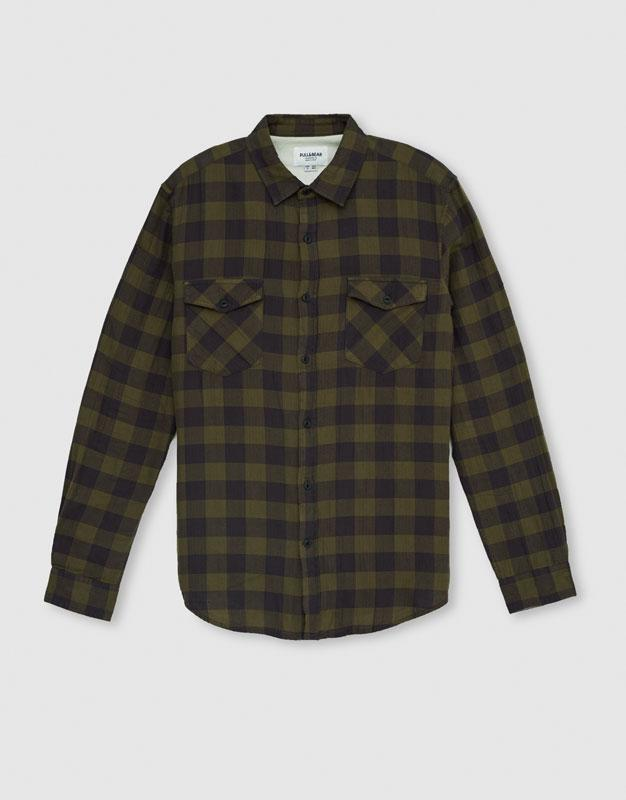teeshirt: (39, 107, 579, 658)
